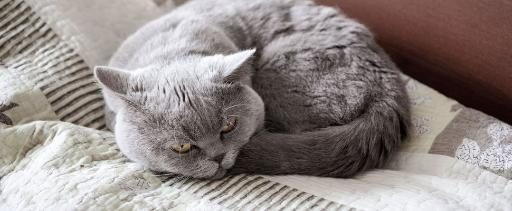cat_sleeping: (94, 0, 411, 179)
